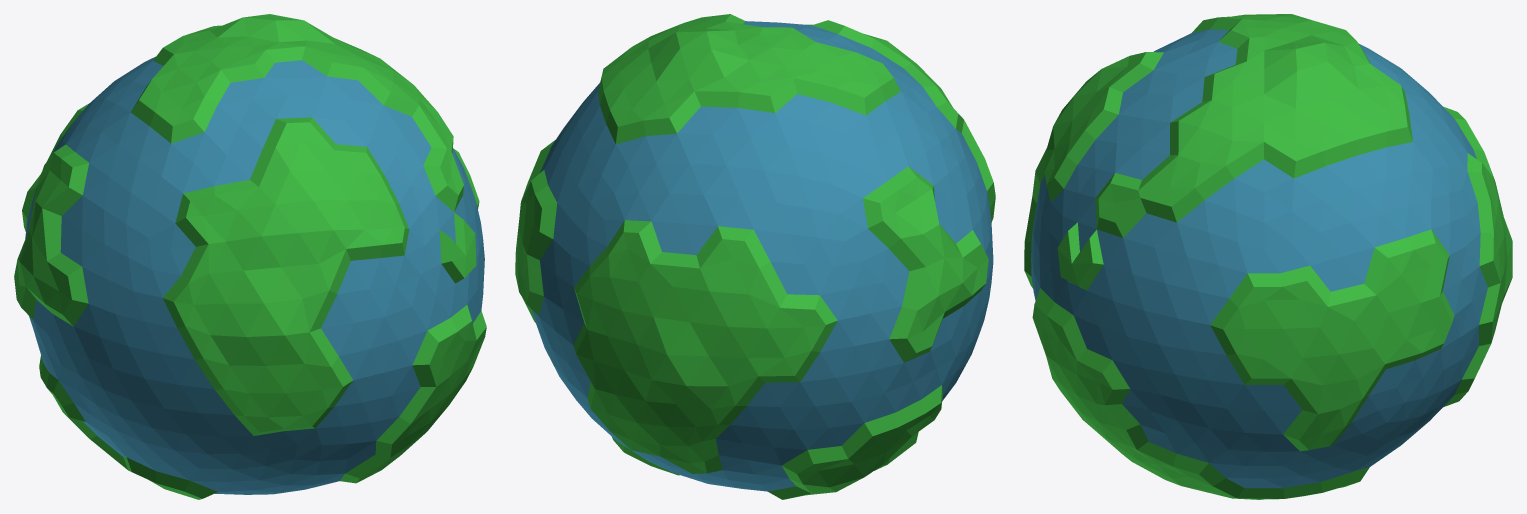
The model's file is EarthLowPoly.fbx.
3 renders of one model, left to right at view 1: azimuth 30°, elevation 25°; view 2: azimuth 150°, elevation 25°; view 3: azimuth 270°, elevation 25°, orthographic.
Parts seen in each view (by area): view 1: Icosphere; view 2: Icosphere; view 3: Icosphere.
Boxes of the visible parts, bbox=[...] form: Icosphere: bbox=[14, 14, 486, 499]; Icosphere: bbox=[515, 14, 995, 499]; Icosphere: bbox=[1024, 14, 1512, 499].
Size of the model in its own units: 1048 by 1053 by 1048.
